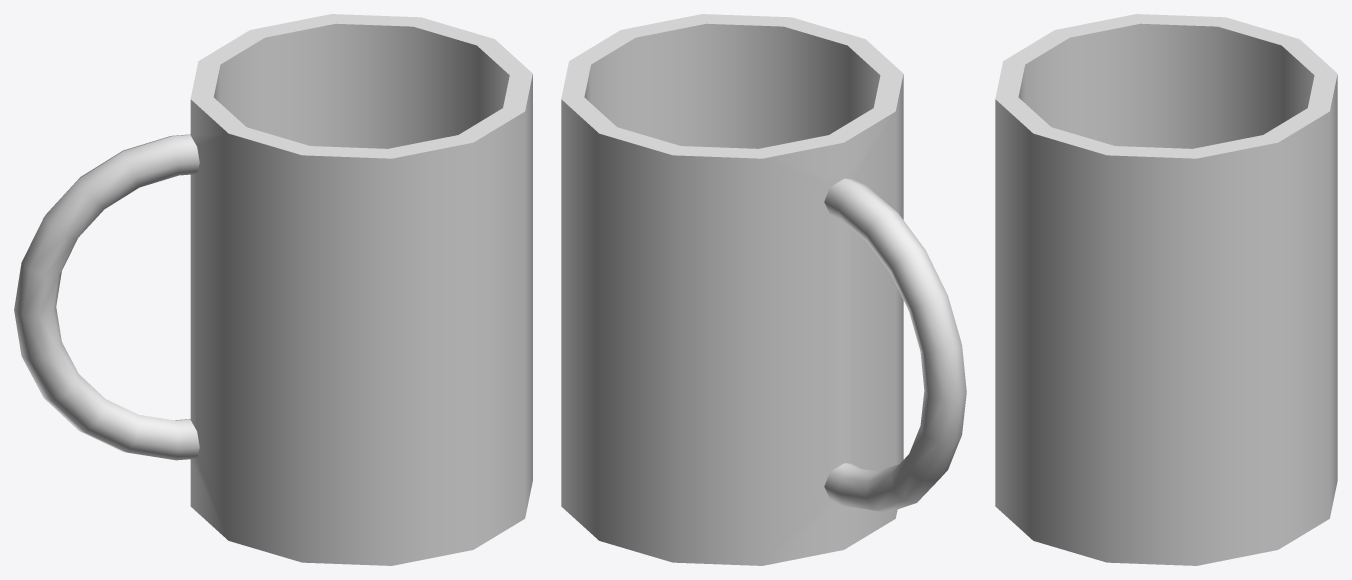
The model's file is ThrowProp_Mug_03.FBX.
The picture shows the model from 3 angles, left to right: view 1: azimuth 30°, elevation 25°; view 2: azimuth 150°, elevation 25°; view 3: azimuth 270°, elevation 25°; orthographic projection.
Parts seen in each view (by area): view 1: Mug002; view 2: Mug002; view 3: Mug002.
Boxes of the visible parts, x1,y1,x2,y2 form: Mug002: (14,14,532,565); Mug002: (561,14,966,565); Mug002: (995,14,1337,565).
Bounding box in the file's own units: 11.86 × 10.6 × 8.08.
Materials: 1 (1 with a texture image).
